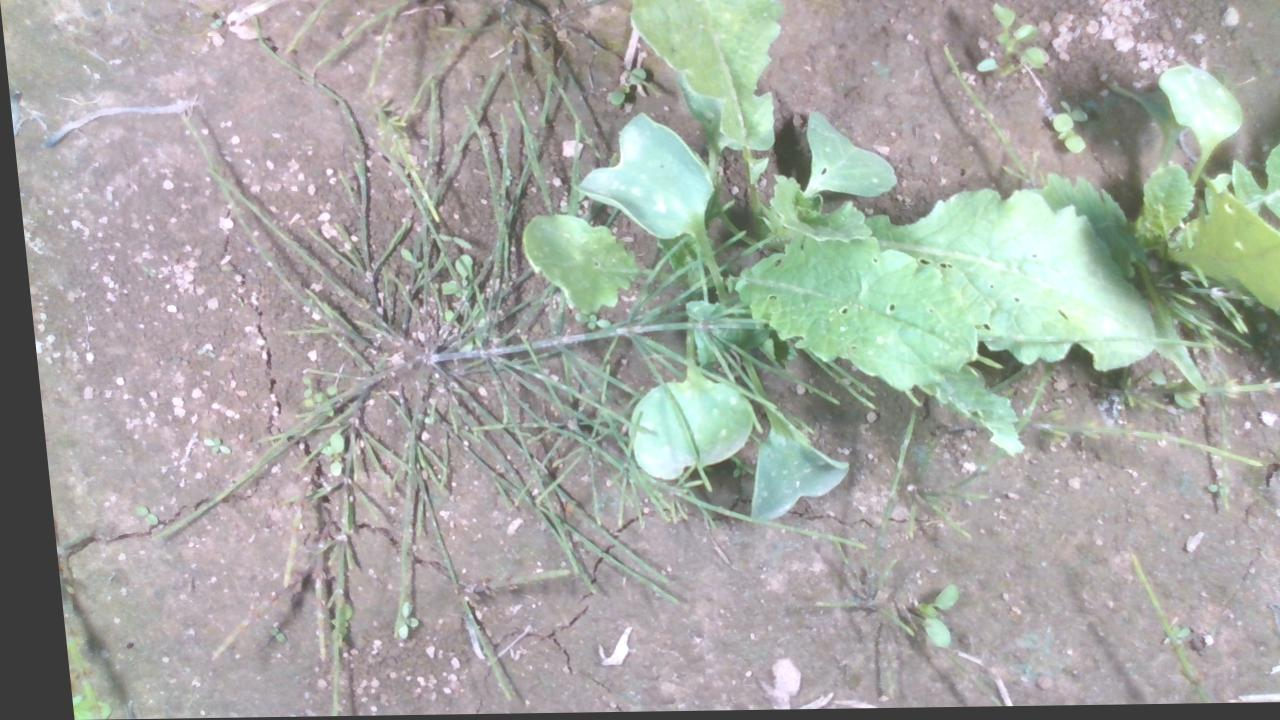weed: (122, 504, 148, 525), (252, 623, 274, 644)
